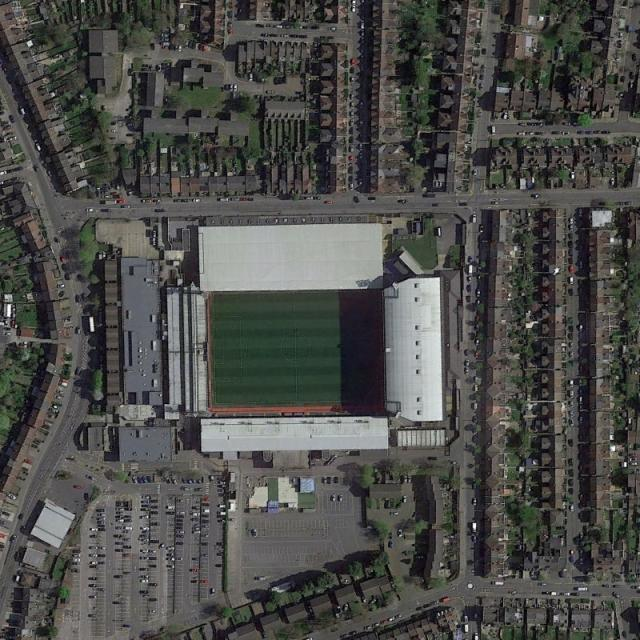vehicle: (89, 316, 94, 333), (104, 199, 116, 206), (472, 522, 478, 534), (58, 382, 70, 388), (24, 458, 33, 466), (75, 366, 82, 376), (227, 11, 234, 20), (578, 377, 585, 386), (75, 294, 82, 303), (121, 204, 131, 210), (117, 199, 127, 205), (478, 82, 484, 92), (530, 194, 542, 199), (475, 337, 481, 347), (466, 294, 472, 304), (578, 323, 584, 333), (82, 292, 88, 302), (56, 389, 66, 395), (70, 568, 80, 574), (254, 576, 266, 581), (490, 582, 504, 586), (61, 263, 68, 271), (64, 272, 71, 280), (159, 542, 166, 550), (369, 598, 376, 606), (577, 586, 588, 591), (464, 623, 469, 634), (142, 198, 153, 203), (154, 208, 165, 213), (159, 41, 170, 46), (114, 541, 125, 546), (550, 591, 561, 596), (591, 593, 602, 598), (35, 142, 41, 151), (86, 207, 95, 213), (165, 477, 171, 486), (140, 507, 149, 513), (149, 582, 158, 588), (464, 614, 470, 623), (468, 265, 473, 275), (440, 597, 450, 602), (101, 208, 111, 213), (298, 34, 308, 39), (51, 404, 61, 409), (180, 486, 190, 491), (123, 526, 133, 531), (148, 564, 158, 569), (570, 592, 580, 597), (612, 584, 622, 589), (46, 170, 52, 178), (353, 196, 359, 204), (227, 21, 233, 29), (466, 285, 472, 293), (476, 299, 482, 307), (56, 283, 64, 289), (54, 394, 62, 400), (71, 554, 83, 558), (11, 534, 17, 542), (8, 494, 16, 500), (132, 476, 138, 484), (172, 477, 178, 485), (112, 601, 124, 605), (468, 256, 474, 264), (600, 584, 612, 588), (472, 214, 477, 223), (14, 166, 23, 171), (184, 39, 189, 48), (503, 111, 508, 120), (570, 171, 575, 180), (473, 168, 478, 177), (430, 202, 439, 207), (491, 201, 500, 206), (625, 201, 634, 206), (477, 289, 482, 298), (569, 418, 574, 427), (60, 378, 69, 383), (473, 497, 478, 506), (147, 474, 152, 483), (194, 487, 203, 492), (97, 513, 106, 518), (89, 560, 98, 565), (89, 565, 98, 570), (74, 485, 83, 490), (114, 548, 123, 553), (123, 514, 132, 519), (122, 544, 131, 549), (141, 578, 150, 583), (166, 505, 175, 510), (190, 579, 199, 584), (200, 553, 209, 558), (218, 504, 227, 509), (389, 540, 394, 549), (631, 585, 640, 590), (255, 24, 266, 28), (139, 556, 150, 560), (613, 592, 620, 598), (60, 255, 66, 262), (348, 175, 354, 182), (618, 32, 624, 39), (187, 477, 193, 484), (190, 477, 197, 483), (579, 549, 585, 556), (492, 126, 496, 136), (465, 367, 470, 375), (34, 164, 39, 172), (314, 196, 322, 201), (351, 58, 356, 66), (233, 83, 238, 91), (229, 83, 234, 91), (160, 38, 170, 42), (261, 33, 269, 38), (266, 23, 274, 28), (328, 26, 338, 30), (102, 104, 107, 112), (481, 64, 486, 72), (518, 131, 526, 136), (526, 131, 534, 136), (551, 131, 561, 135), (602, 130, 612, 134), (569, 266, 574, 274), (568, 249, 573, 257), (569, 390, 574, 398), (95, 508, 105, 512), (472, 536, 477, 544), (90, 527, 98, 532), (87, 583, 97, 587), (88, 595, 98, 599), (98, 561, 106, 566), (88, 614, 98, 618), (115, 519, 125, 523), (122, 538, 132, 542), (122, 554, 132, 558), (140, 514, 148, 519), (139, 534, 149, 538), (138, 549, 148, 553), (139, 590, 149, 594), (149, 549, 157, 554), (150, 522, 160, 526), (151, 510, 159, 515), (165, 512, 175, 516), (176, 514, 186, 518), (190, 518, 200, 522), (190, 568, 198, 573), (201, 579, 209, 584), (364, 625, 372, 630), (430, 601, 438, 606), (562, 592, 570, 597), (570, 276, 574, 285), (398, 529, 402, 538), (390, 512, 399, 516), (193, 198, 202, 202), (181, 198, 190, 202), (230, 198, 239, 202), (324, 200, 333, 204), (249, 73, 253, 82), (101, 194, 110, 198), (161, 34, 170, 38), (280, 34, 289, 38), (283, 25, 292, 29), (310, 26, 319, 30), (361, 20, 365, 29), (482, 46, 486, 55), (576, 130, 585, 134), (459, 202, 468, 206), (579, 209, 583, 218), (465, 349, 469, 358), (570, 400, 574, 409), (578, 389, 584, 395), (71, 558, 80, 562), (89, 534, 98, 538), (89, 546, 98, 550), (88, 577, 97, 581), (97, 521, 106, 525), (97, 587, 106, 591), (114, 515, 123, 519), (113, 534, 122, 538), (114, 574, 123, 578), (122, 624, 131, 628), (141, 500, 150, 504), (140, 538, 149, 542), (149, 609, 158, 613), (140, 567, 149, 571), (150, 540, 159, 544), (150, 499, 159, 503), (177, 510, 186, 514), (166, 546, 175, 550), (165, 557, 174, 561), (176, 530, 185, 534), (175, 557, 184, 561), (175, 526, 184, 530), (176, 534, 185, 538), (192, 530, 201, 534), (192, 527, 201, 531), (201, 534, 210, 538), (201, 542, 210, 546), (192, 512, 201, 516), (201, 503, 210, 507), (214, 563, 223, 567), (215, 542, 224, 546), (508, 590, 517, 594), (538, 582, 547, 586), (579, 556, 583, 565), (570, 504, 574, 513), (474, 633, 479, 640), (359, 143, 364, 150), (162, 45, 169, 50), (228, 29, 233, 36), (569, 258, 574, 265), (475, 324, 480, 331), (138, 476, 143, 483), (142, 476, 147, 483), (182, 477, 187, 484), (211, 588, 216, 595), (322, 476, 327, 483), (373, 622, 380, 627), (380, 620, 387, 625), (388, 617, 395, 622), (344, 604, 349, 611), (578, 532, 583, 539), (570, 380, 574, 388), (474, 384, 478, 392), (403, 475, 407, 483), (220, 198, 228, 202), (173, 198, 181, 202), (239, 198, 247, 202), (368, 197, 376, 201), (350, 183, 354, 191), (350, 154, 354, 162), (350, 145, 354, 153), (359, 152, 363, 160), (350, 110, 354, 118), (350, 66, 354, 74), (178, 44, 182, 52), (274, 25, 282, 29), (290, 34, 298, 38), (314, 42, 318, 50), (202, 45, 206, 53), (352, 5, 356, 13), (478, 110, 482, 118), (630, 81, 634, 89), (585, 131, 593, 135), (593, 130, 601, 134), (610, 178, 614, 186), (570, 217, 574, 225), (466, 358, 470, 366), (570, 350, 574, 358), (570, 410, 574, 418), (579, 416, 583, 424), (474, 414, 478, 422), (210, 474, 214, 482), (89, 554, 97, 558), (98, 546, 106, 550), (98, 554, 106, 558), (115, 507, 123, 511), (116, 511, 124, 515), (141, 526, 149, 530), (142, 530, 150, 534), (141, 575, 149, 579), (150, 556, 158, 560), (177, 499, 185, 503), (166, 554, 174, 558), (176, 518, 184, 522), (202, 525, 210, 529), (202, 509, 210, 513), (192, 557, 200, 561), (218, 519, 226, 523), (228, 518, 236, 522), (218, 489, 226, 493), (340, 634, 348, 638), (350, 630, 358, 634), (395, 614, 403, 618), (415, 606, 423, 610), (542, 591, 550, 595), (579, 397, 584, 403), (150, 506, 160, 509), (402, 495, 406, 502), (350, 136, 354, 143), (350, 127, 354, 134), (350, 119, 354, 126), (350, 102, 354, 109), (350, 77, 354, 84), (102, 190, 109, 194), (116, 183, 120, 190), (174, 44, 178, 51), (361, 29, 365, 36), (480, 74, 484, 81), (570, 225, 574, 232), (579, 262, 583, 269), (468, 276, 472, 283), (570, 342, 574, 349), (217, 553, 224, 557), (423, 604, 430, 608), (141, 496, 150, 499), (166, 565, 175, 568), (217, 512, 226, 515), (1, 170, 6, 175), (332, 494, 335, 502), (77, 326, 80, 334), (306, 197, 314, 200), (350, 94, 354, 100), (218, 485, 226, 488), (362, 597, 366, 603), (570, 557, 574, 563), (339, 495, 342, 502), (408, 476, 411, 483), (475, 351, 478, 358), (570, 234, 573, 240)
